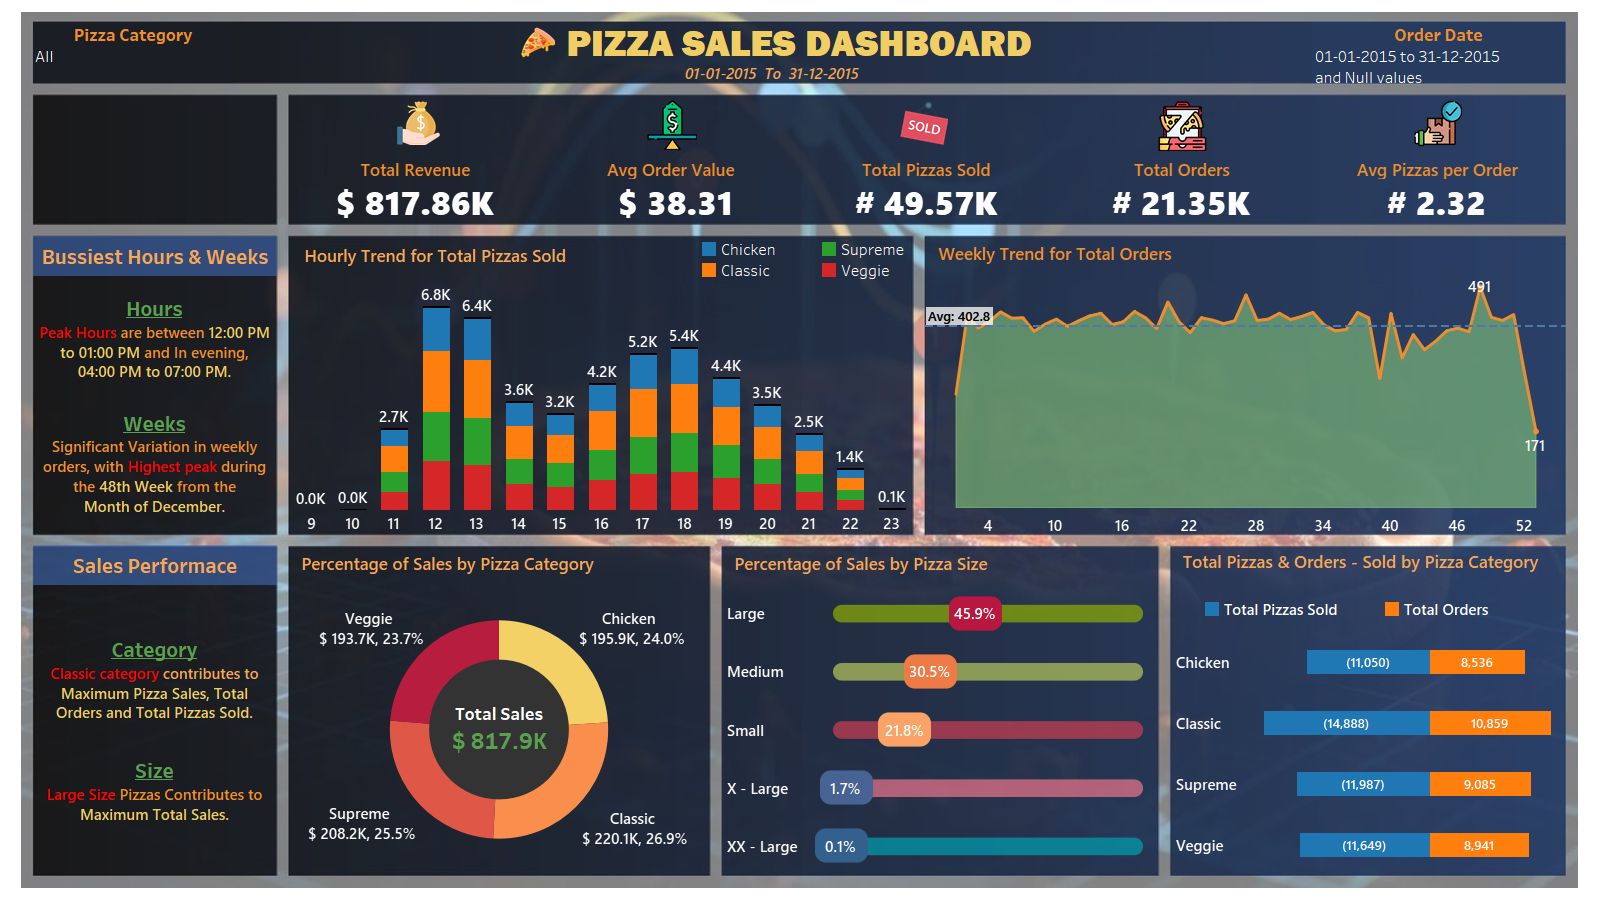

This screenshot's page, from the dashboard's own definition file:
{"tool":"tableau","page":{"name":"Home","canvas":[1600,900],"ordinal":1},"visuals":[{"type":"image","param":"D:/INTERVIEW PREP/MOCK TABLEAU/Pizza sales Dashboard (MySQL + Tableau)/Raw_Files","box":[8,8,1584,884]},{"type":"filter","title":"Hourly Trend for Total Pizzas Sold","param":"[federated.067uka50x5wakh12jxpnb189ngbn].[none:pizza_category:nk]","box":[33,22,200,61]},{"type":"text","box":[34,22,1530,43]},{"type":"filter","title":"Hourly Trend for Total Pizzas Sold","param":"[federated.067uka50x5wakh12jxpnb189ngbn].[none:order_date:qk]","box":[1312,22,253,61]},{"type":"image","param":"D:/INTERVIEW PREP/MOCK TABLEAU/Pizza sales Dashboard (MySQL + Tableau)/Pizza sal","box":[513,25,51,34]},{"type":"worksheet","title":"Max-Min Dates","mark":"Automatic","box":[527,61,491,24]},{"type":"image","param":"D:/INTERVIEW PREP/MOCK TABLEAU/Pizza sales Dashboard (MySQL + Tableau)/Pizza sal","box":[899,99,51,48]},{"type":"image","param":"D:/INTERVIEW PREP/MOCK TABLEAU/Pizza sales Dashboard (MySQL + Tableau)/Pizza sal","box":[1412,99,53,48]},{"type":"image","param":"D:/INTERVIEW PREP/MOCK TABLEAU/Pizza sales Dashboard (MySQL + Tableau)/Pizza sal","box":[646,100,53,50]},{"type":"image","param":"D:/INTERVIEW PREP/MOCK TABLEAU/Pizza sales Dashboard (MySQL + Tableau)/Pizza sal","box":[396,101,44,44]},{"type":"image","param":"D:/INTERVIEW PREP/MOCK TABLEAU/Pizza sales Dashboard (MySQL + Tableau)/Pizza sal","box":[1155,101,55,50]},{"type":"worksheet","title":"KPIs Banner","mark":"Automatic","box":[288,159,1277,66]},{"type":"text","box":[33,236,244,40]},{"type":"worksheet","title":"Weekly Trend for Total Orders","mark":"Area","rows":["Calculation_1177128361996931073","Calculation_1177128361996931073"],"cols":["order_date"],"box":[925,236,641,298]},{"type":"worksheet","title":"Hourly Trend for Total Pizzas Sold","mark":"Bar","rows":["Calculation_1177128361997697027","Calculation_1177128361997697027"],"cols":["order_time"],"box":[291,238,622,296]},{"type":"legend","title":"Hourly Trend for Total Pizzas Sold","param":"[federated.067uka50x5wakh12jxpnb189ngbn].[none:pizza_category:nk]","box":[699,239,249,48]},{"type":"text","box":[33,276,243,259]},{"type":"text","box":[33,545,244,40]},{"type":"worksheet","title":"Percentage of Sales by Pizza Category","mark":"Pie","rows":["Calculation_682576828708249603","Calculation_682576828708278277"],"box":[288,546,422,329]},{"type":"worksheet","title":"Percentage of Sales by Pizza Size","mark":"Line","rows":["pizza_size"],"box":[721,546,437,329]},{"type":"text","box":[1170,546,395,30]},{"type":"text","box":[33,585,243,290]},{"type":"legend","title":"Total Pizzas & Orders - Sold by Pizza Category","param":"[federated.067uka50x5wakh12jxpnb189ngbn].[:Measure Names]","box":[1202,599,362,34]},{"type":"worksheet","title":"Total Pizzas & Orders - Sold by Pizza Category","mark":"Automatic","rows":["pizza_category"],"box":[1170,631,395,244]}]}

Visuals, with their boxes in screenshot pixels (x1, y1, x2, y2), scaled from the page's 1600x900 canvas onto the 1600x900 screenshot:
image: box(8, 8, 1592, 892)
"Hourly Trend for Total Pizzas Sold" filter: box(33, 22, 233, 83)
text: box(34, 22, 1564, 65)
"Hourly Trend for Total Pizzas Sold" filter: box(1312, 22, 1565, 83)
image: box(513, 25, 564, 59)
"Max-Min Dates" worksheet: box(527, 61, 1018, 85)
image: box(899, 99, 950, 147)
image: box(1412, 99, 1465, 147)
image: box(646, 100, 699, 150)
image: box(396, 101, 440, 145)
image: box(1155, 101, 1210, 151)
"KPIs Banner" worksheet: box(288, 159, 1565, 225)
text: box(33, 236, 277, 276)
"Weekly Trend for Total Orders" worksheet (Area marks): box(925, 236, 1566, 534)
"Hourly Trend for Total Pizzas Sold" worksheet (Bar marks): box(291, 238, 913, 534)
"Hourly Trend for Total Pizzas Sold" legend: box(699, 239, 948, 287)
text: box(33, 276, 276, 535)
text: box(33, 545, 277, 585)
"Percentage of Sales by Pizza Category" worksheet (Pie marks): box(288, 546, 710, 875)
"Percentage of Sales by Pizza Size" worksheet (Line marks): box(721, 546, 1158, 875)
text: box(1170, 546, 1565, 576)
text: box(33, 585, 276, 875)
"Total Pizzas & Orders - Sold by Pizza Category" legend: box(1202, 599, 1564, 633)
"Total Pizzas & Orders - Sold by Pizza Category" worksheet: box(1170, 631, 1565, 875)
